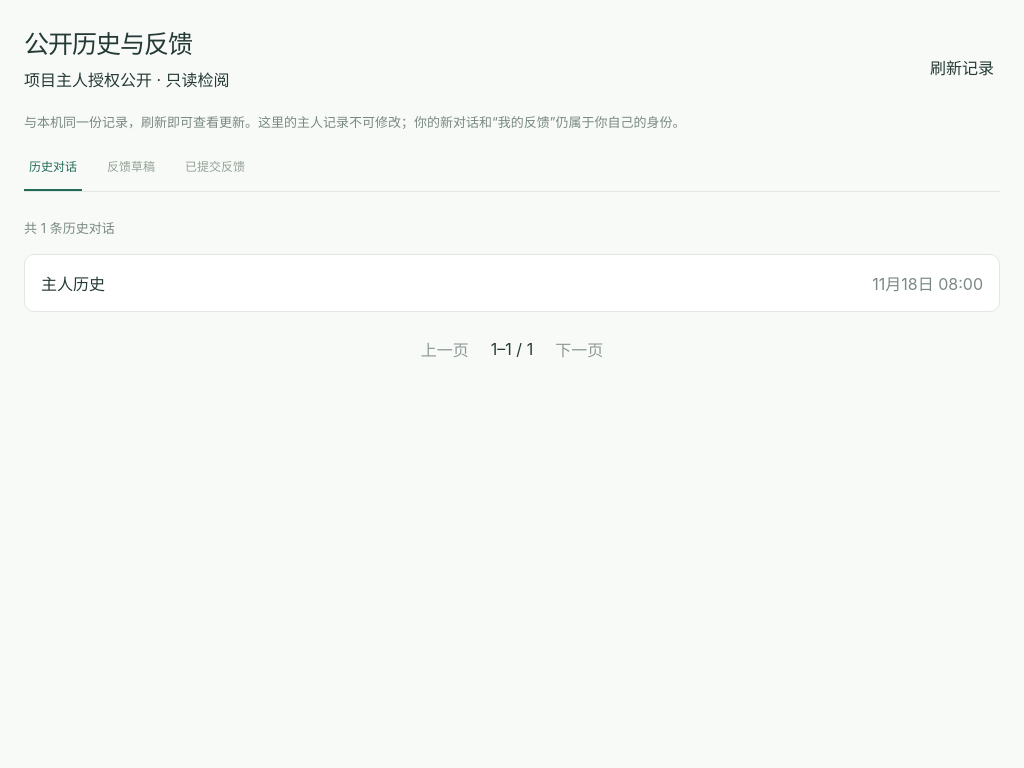
reads owner history, citations and feedback without offering writes
What coordinates should you click on to do the following:
click the button "主人历史 11月18日 08:00"
I would click on:
 (73, 284)
Its box is [24, 254, 1000, 312].
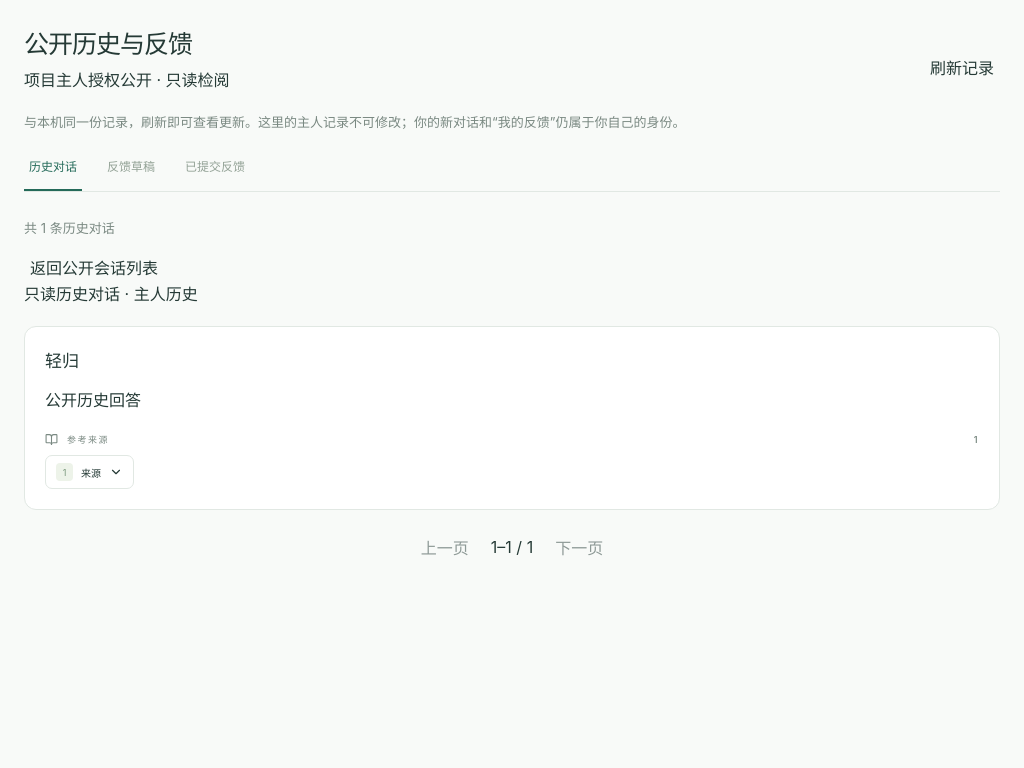
Now the text "公开历史回答" is shown, box [45, 390, 141, 410]
What coordinates should you click on to do the following:
click the button with aria-label "查看来源 1：来源"
I would click on:
 (90, 472)
Its box is [46, 456, 133, 488].
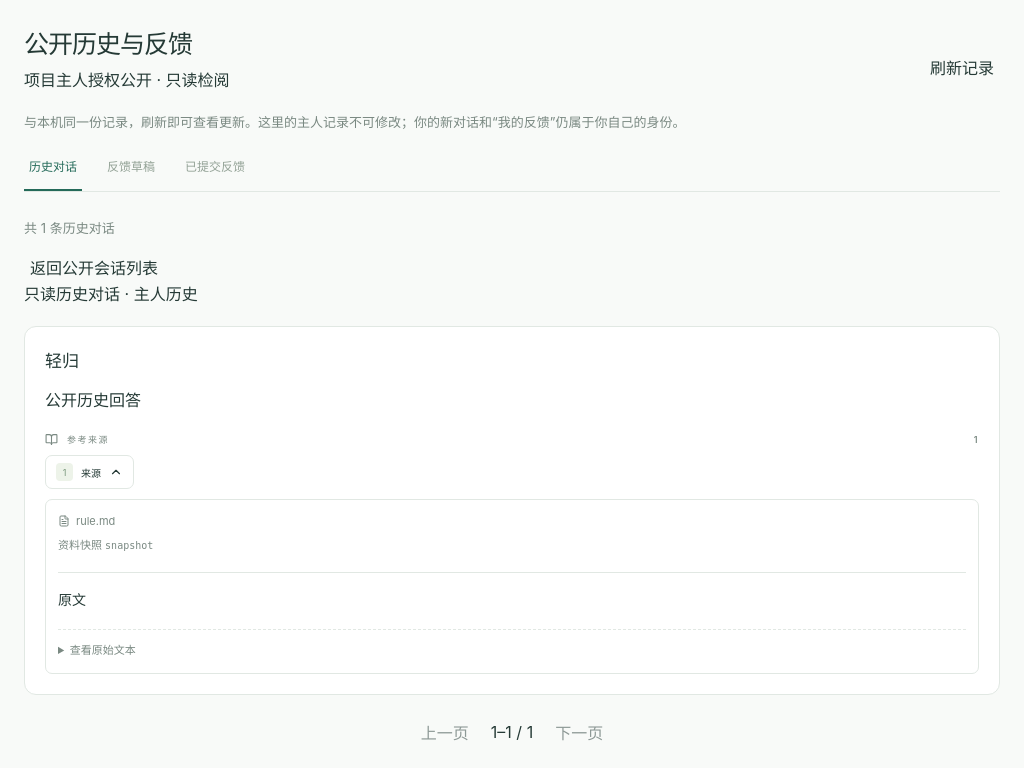
Now the text "原文" is shown, box [58, 591, 86, 608]
What coordinates should you click on to do the following:
click the tab "已提交反馈"
I would click on:
 (215, 169)
Its box is [180, 147, 250, 191].
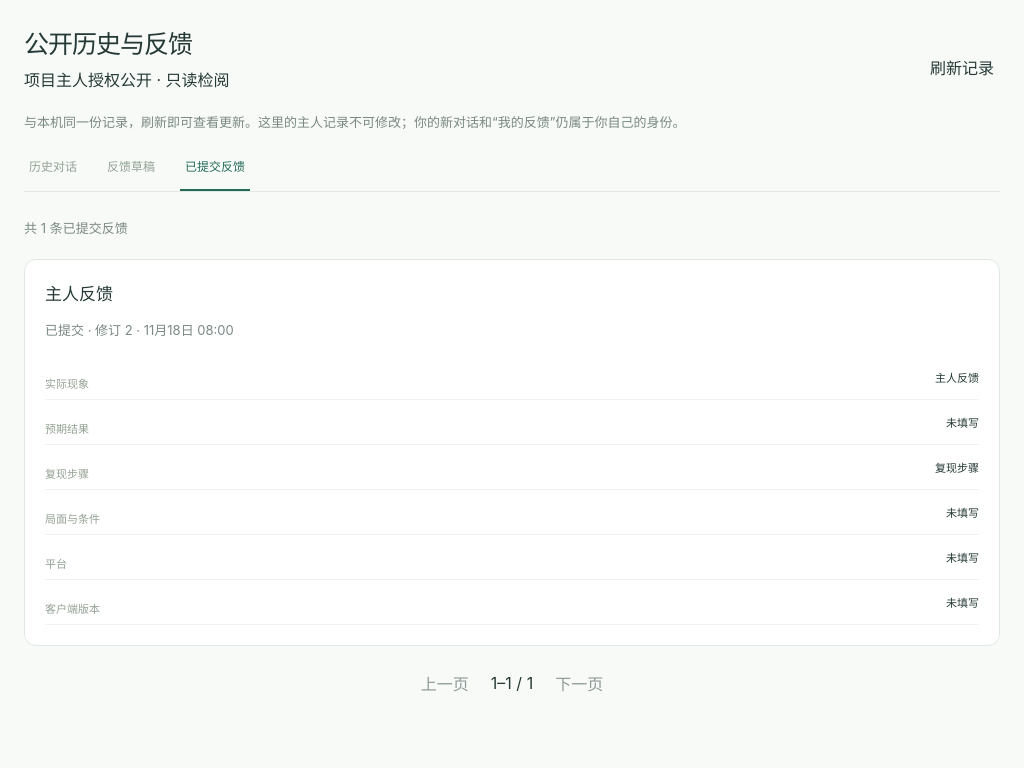
Now the heading "主人反馈" is shown, box [45, 284, 113, 304]
Now the 2nd text "复现步骤" is shown, box [935, 459, 979, 481]
